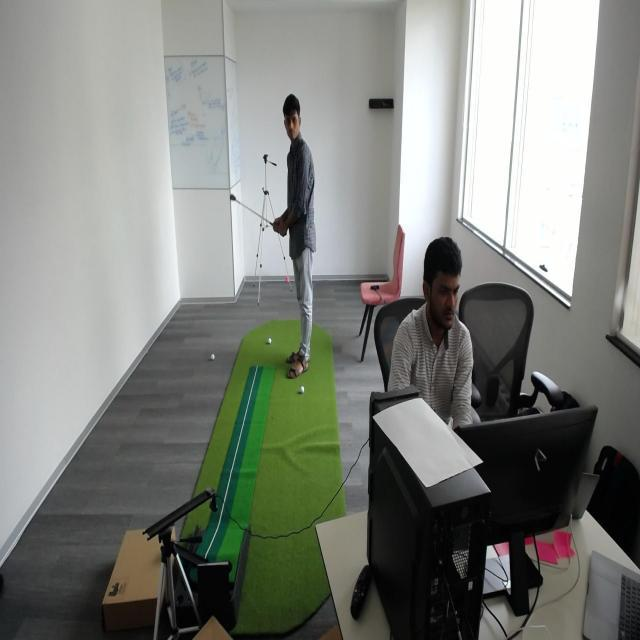ClubHead: (227, 190, 245, 209)
GolfBall: (265, 333, 275, 348), (298, 383, 308, 398), (210, 350, 218, 364)
